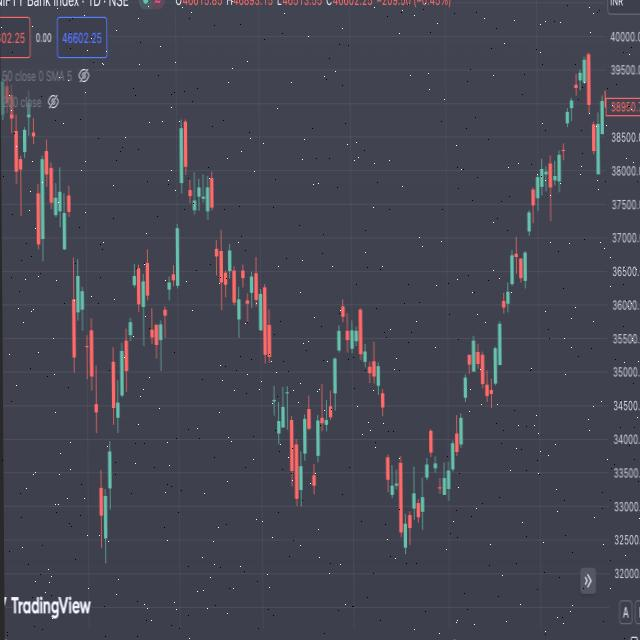Gap Down: (65, 182, 78, 378), (207, 165, 222, 281), (377, 384, 392, 492), (32, 115, 42, 253), (306, 387, 317, 503), (266, 310, 277, 422), (144, 246, 155, 348), (432, 456, 444, 500)
Gap Up: (171, 124, 189, 295), (105, 356, 118, 512), (456, 351, 475, 454), (329, 305, 348, 407), (520, 212, 538, 292), (558, 104, 578, 162), (126, 261, 139, 346)
